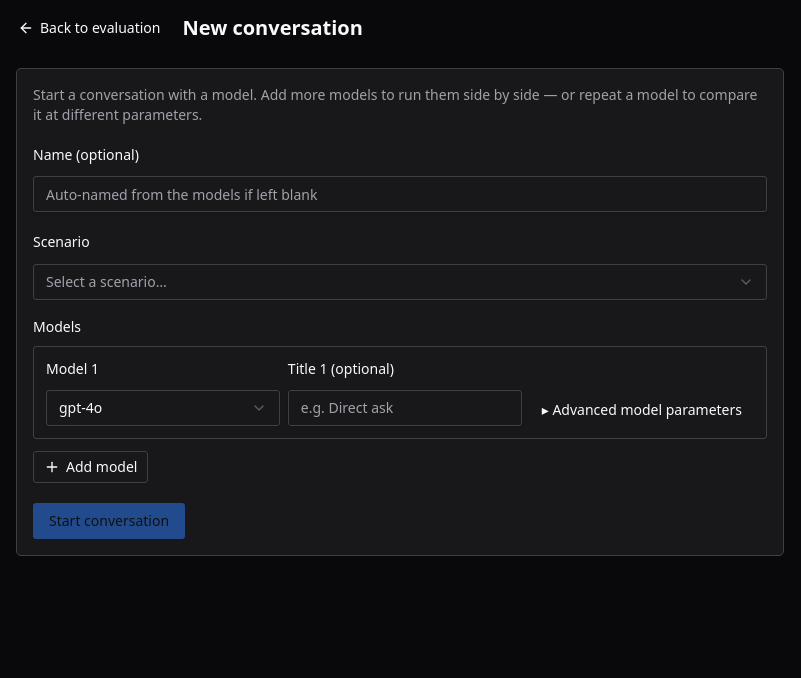
Test: GroupCreatePage › adds and removes model rows
The width and height of the screenshot is (801, 678).
Expected: the dropdown named "Model 1" is shown, [46,390,280,426]
Click the button "Add model": (91, 467) [33,451,148,483]
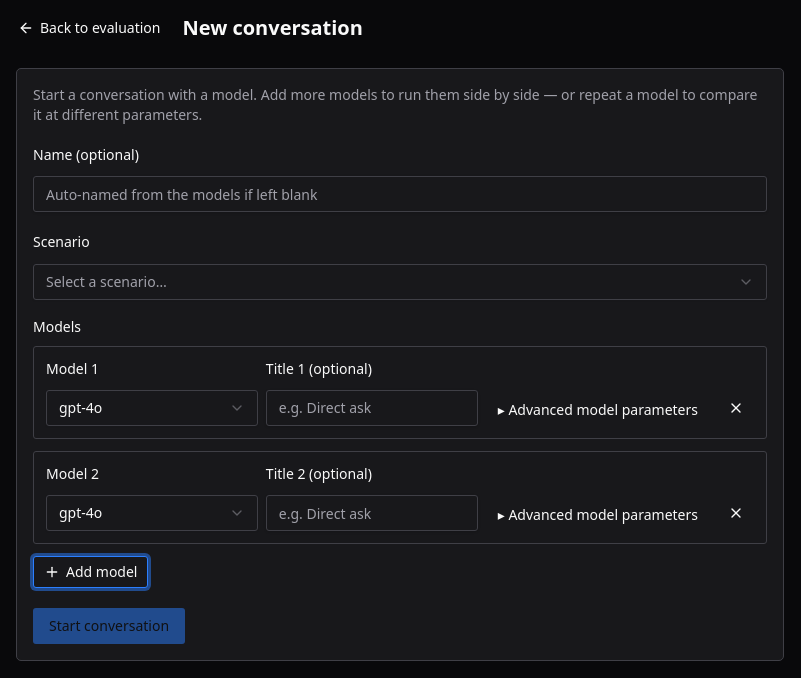
Expected: the dropdown named "Model 2" is shown, [46,495,258,531]
Click the button named "remove model 2": (736, 513) [718,495,754,531]
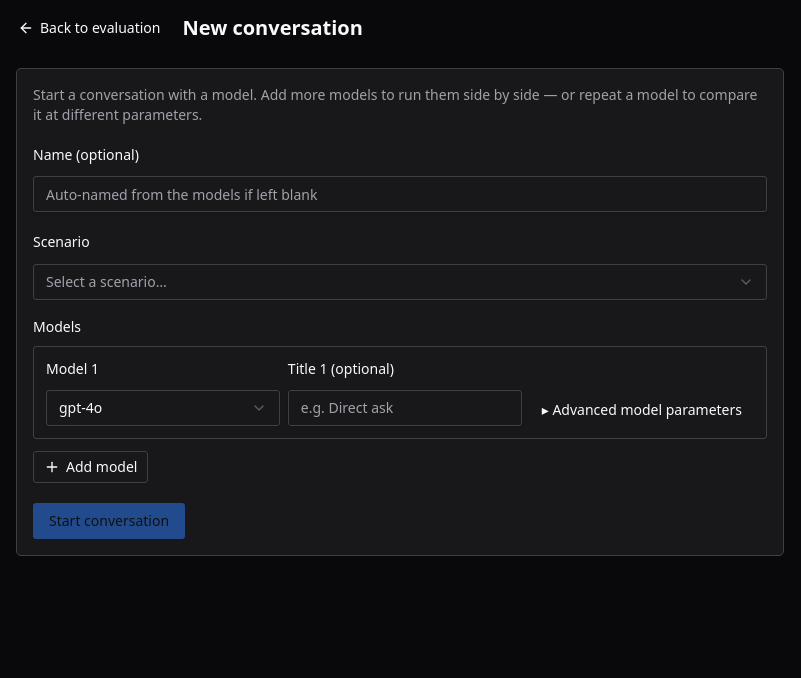
Expected: the label labelled "Model 2" is gone
